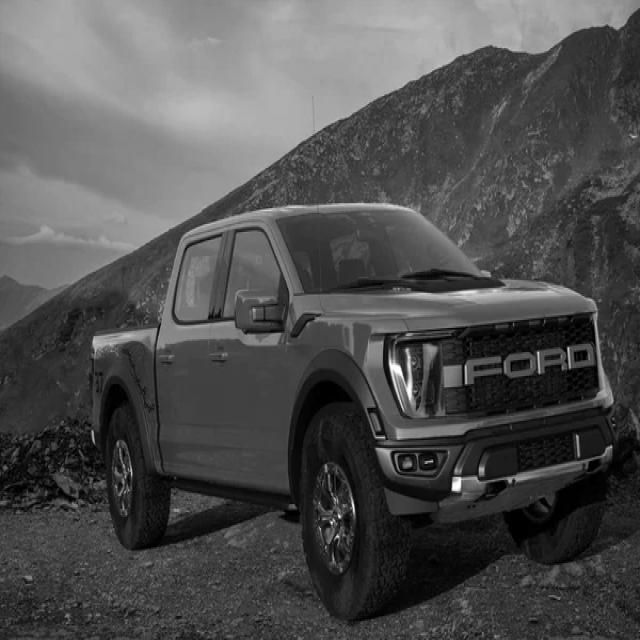Car: (92, 204, 618, 622)
